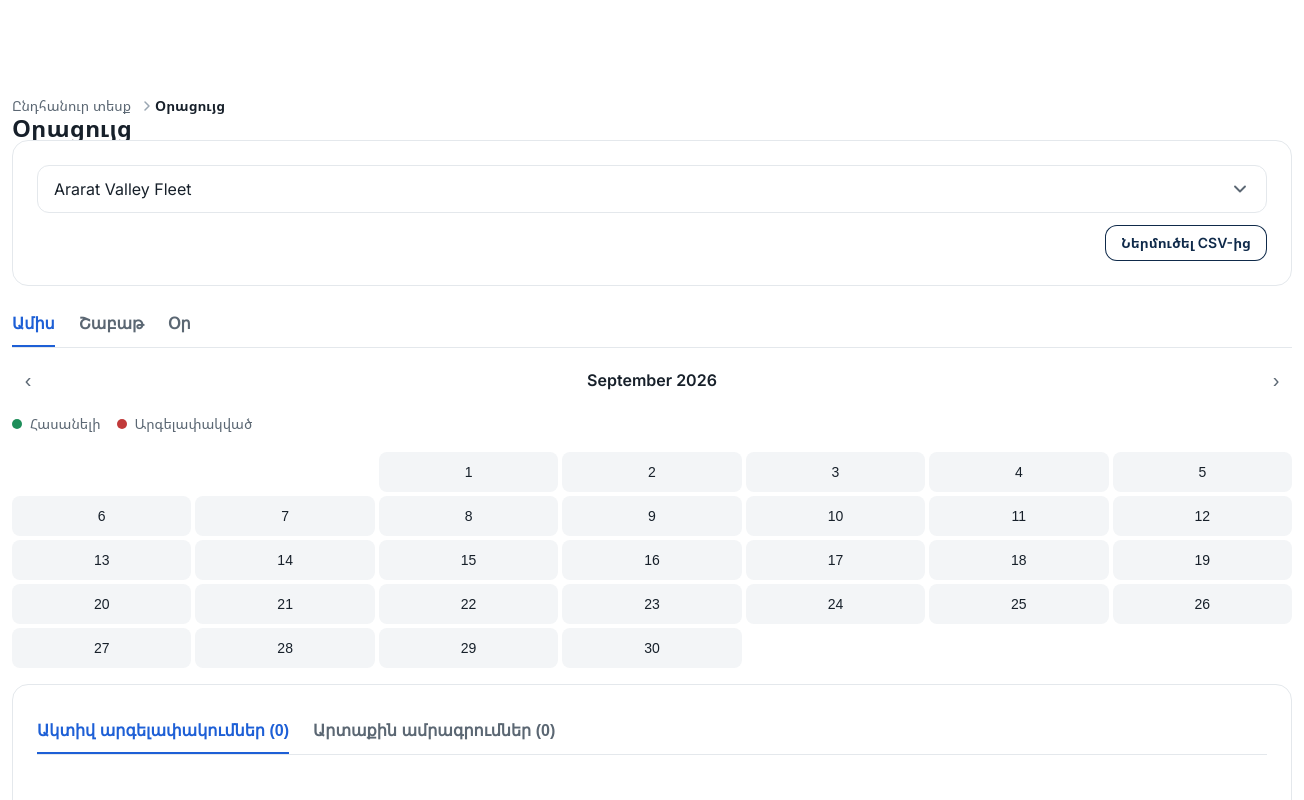
PartnerCalendarPageContent (apps/web/src/modules/partner) › Week/Day views (Sprint 5 P0 — real intraday scheduling) › a date-only unit Day view shows a plain single-day summary, not an hour timeline
The width and height of the screenshot is (1304, 800).
Click the tab "Օր": click(179, 324) 168,302 -> 191,347
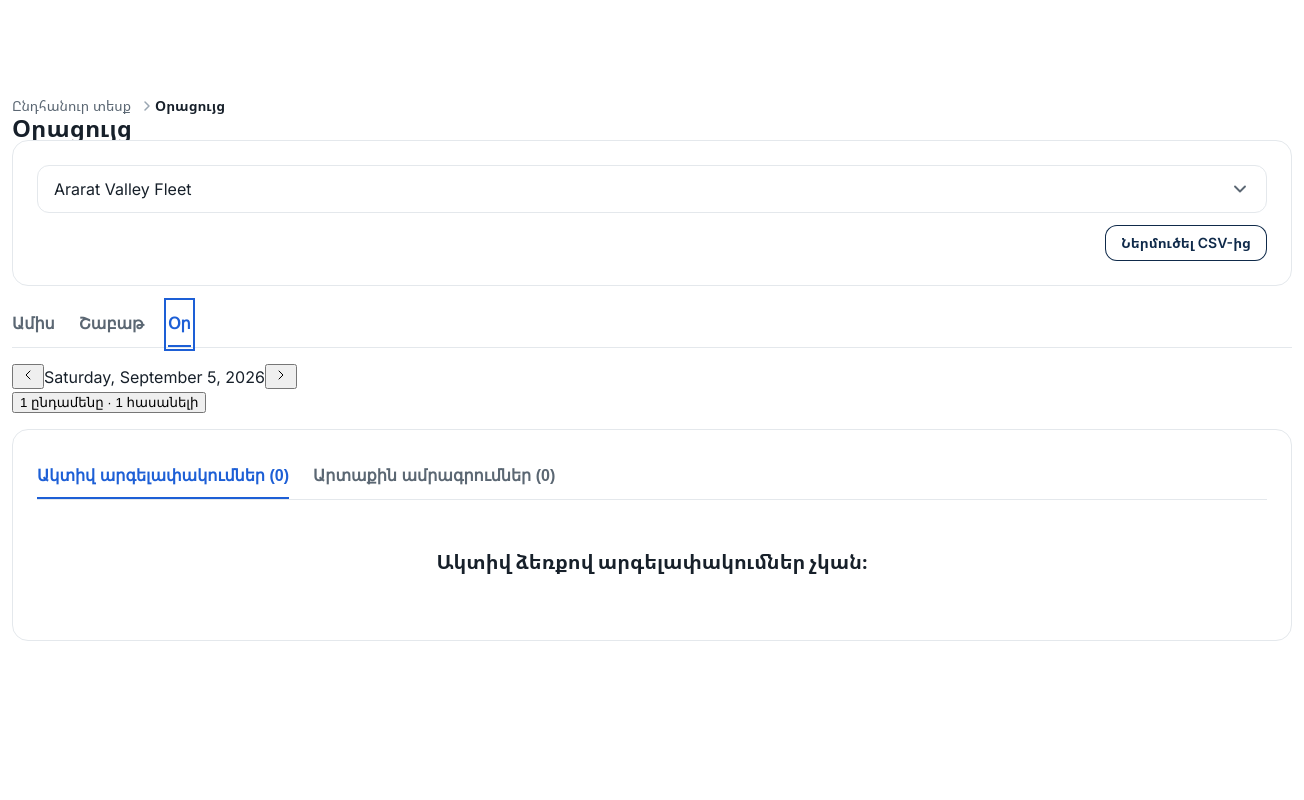
Expected: the text "1 ընդամենը · 1 հասանելի" is shown, 20,395 -> 198,410
